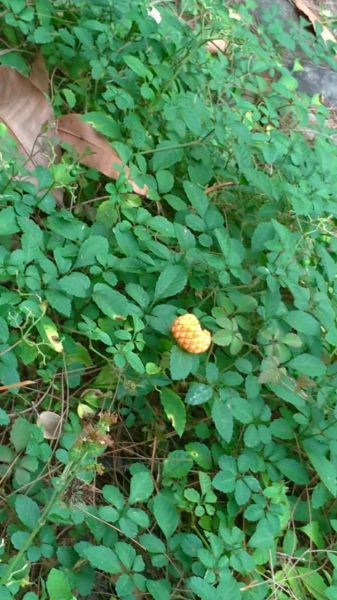eggs: (164, 304, 214, 356)
